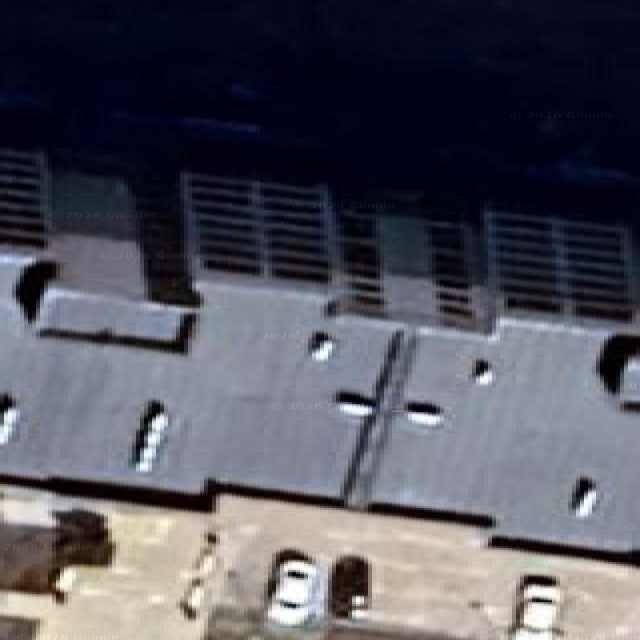car: (267, 560, 322, 626), (512, 576, 560, 639)
